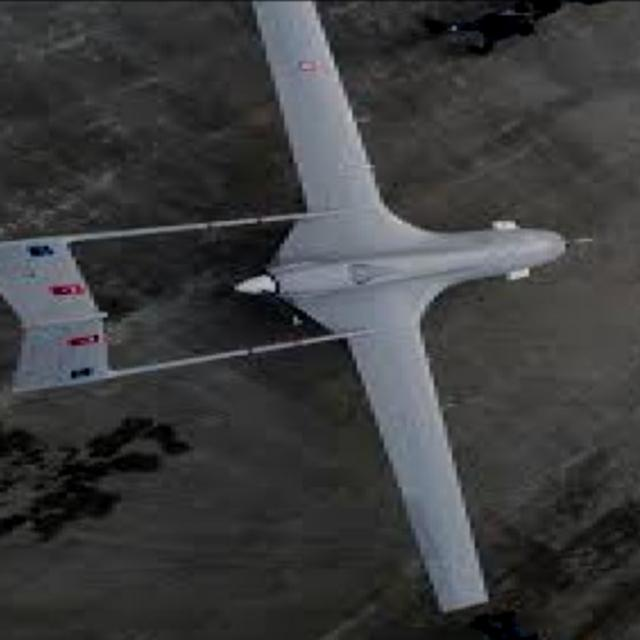plane: (0, 0, 594, 615)
